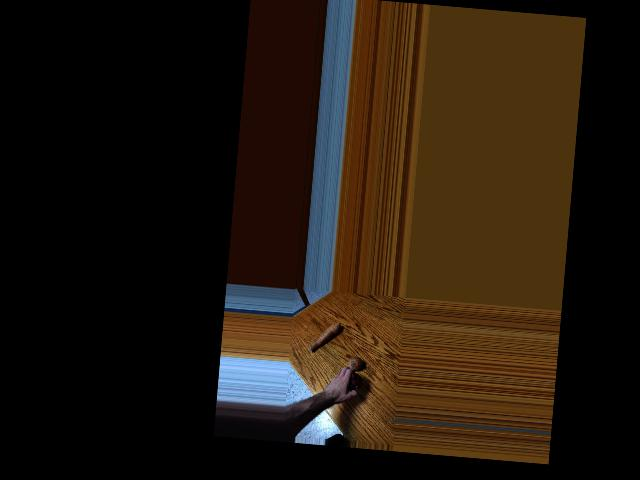onion: (347, 357, 365, 373)
